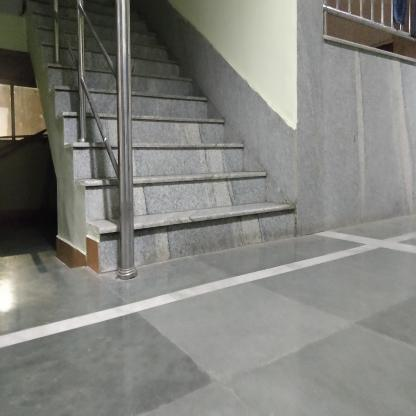stairs: (138, 92, 209, 273)
